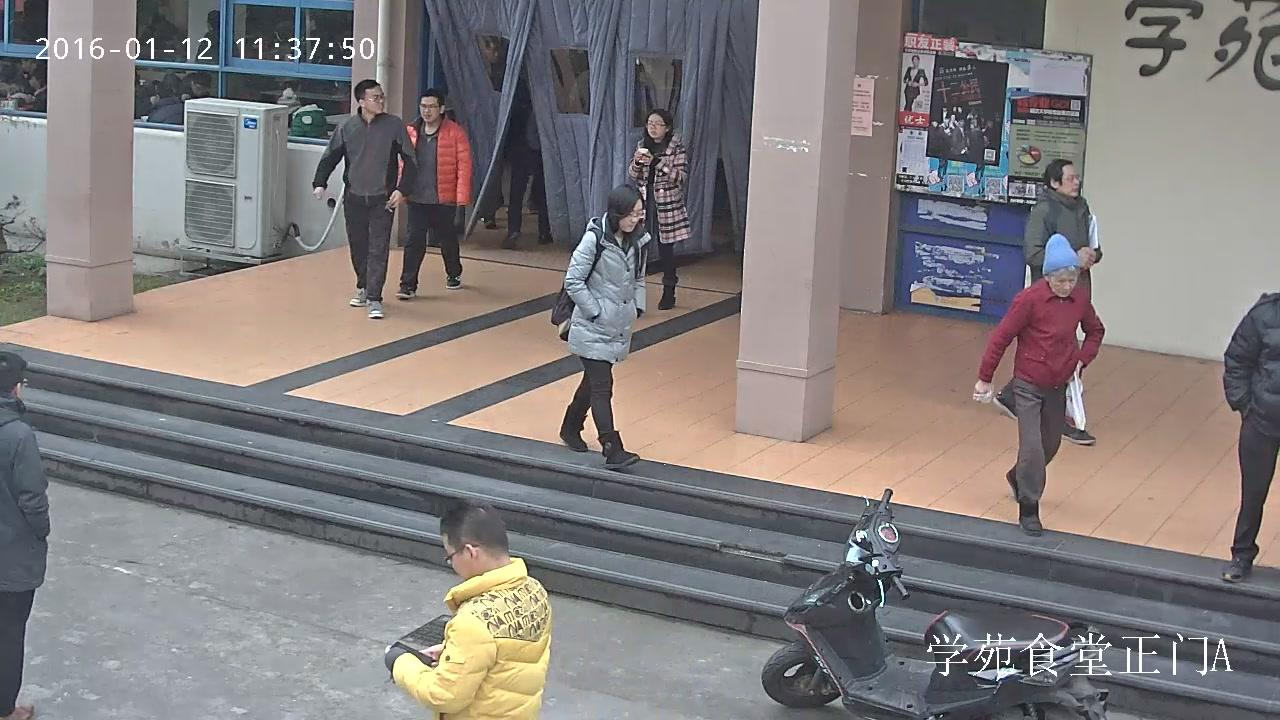person: (971, 232, 1104, 536), (381, 502, 552, 720), (993, 158, 1101, 444), (549, 183, 651, 469), (311, 79, 418, 319), (0, 350, 49, 720), (1222, 282, 1280, 583), (395, 86, 472, 300), (625, 108, 692, 311), (500, 63, 552, 247), (277, 85, 325, 138), (194, 9, 220, 73), (902, 54, 928, 112), (15, 66, 47, 113)
